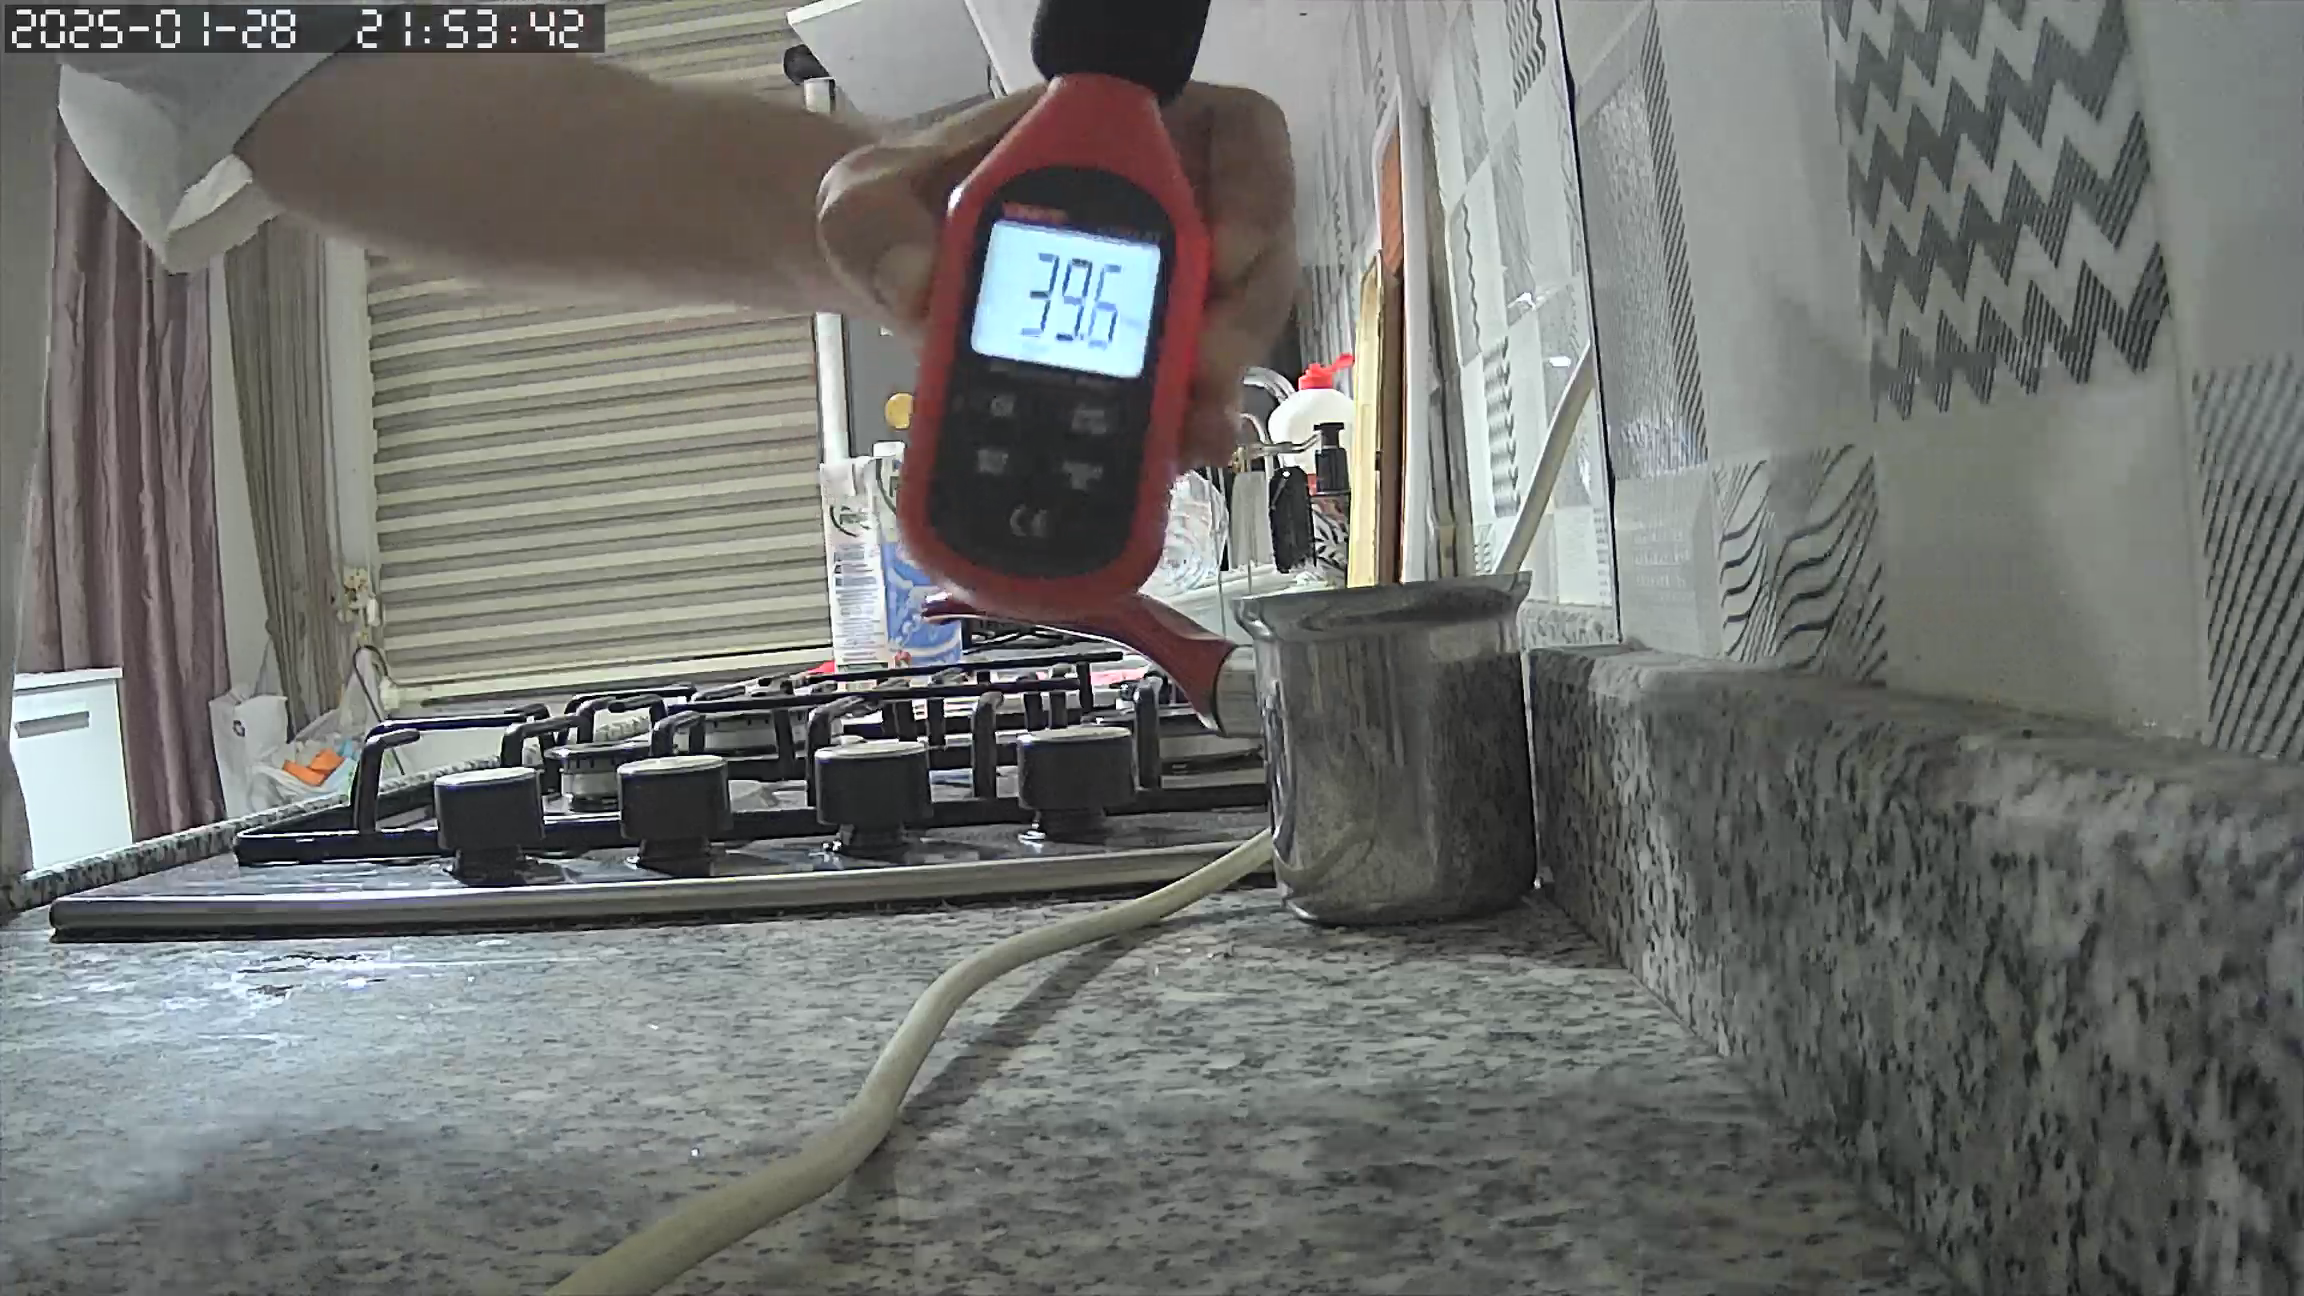screen: (972, 210, 1158, 378)
